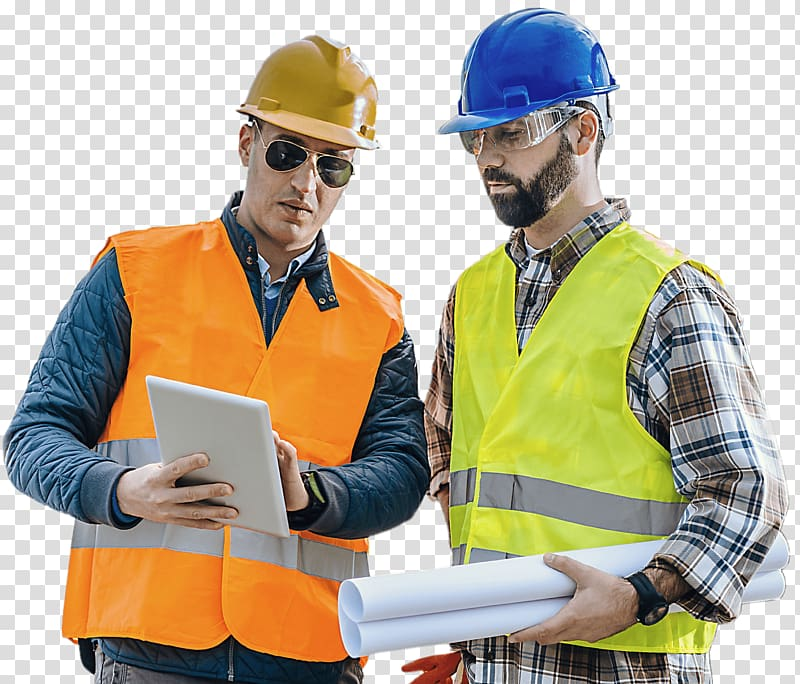hard hat: (437, 8, 622, 133), (236, 34, 381, 152)
high-vis: (60, 216, 406, 659), (447, 227, 728, 652)
